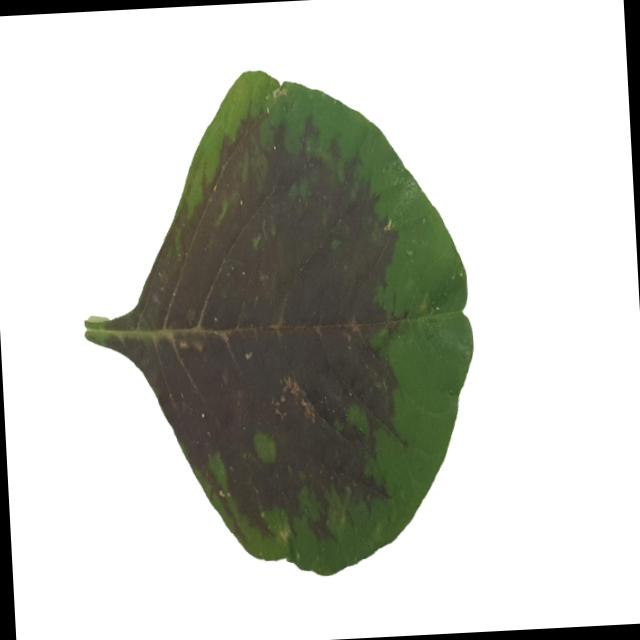Medicinal-Arive Dantu: (70, 54, 486, 589)
